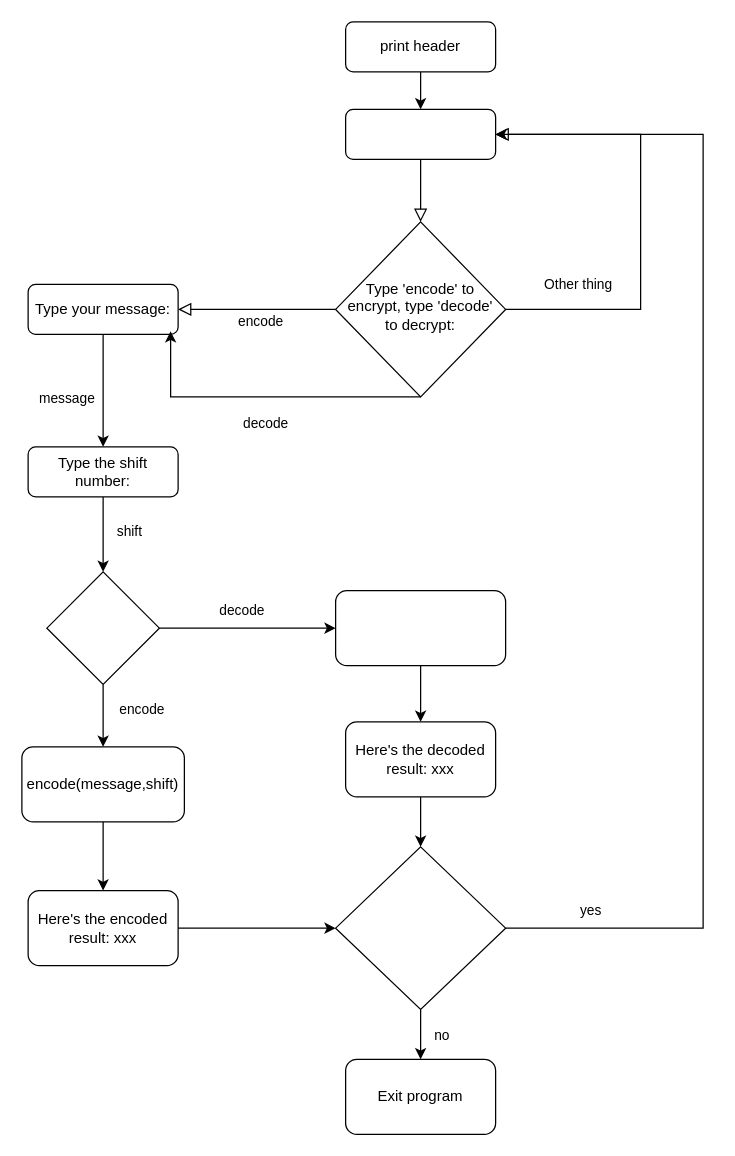
The diagram is 735 pixels wide and 1156 high, and some of its shapes have lost their labels. The box of each missing label's shape, as (x1, y1, x2, y2) in pixels:
call related function: (46, 571, 159, 684)
decode(message,shift): (334, 589, 506, 666)
Print instructions: (344, 108, 496, 159)
Type 'yes' if you want to go again. Otherwise type 'no'.: (334, 846, 506, 1009)
